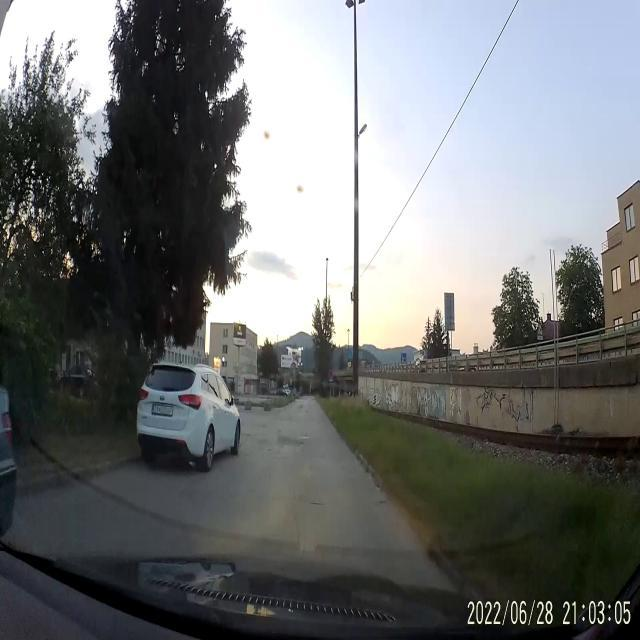Pothole: (275, 430, 304, 449)
